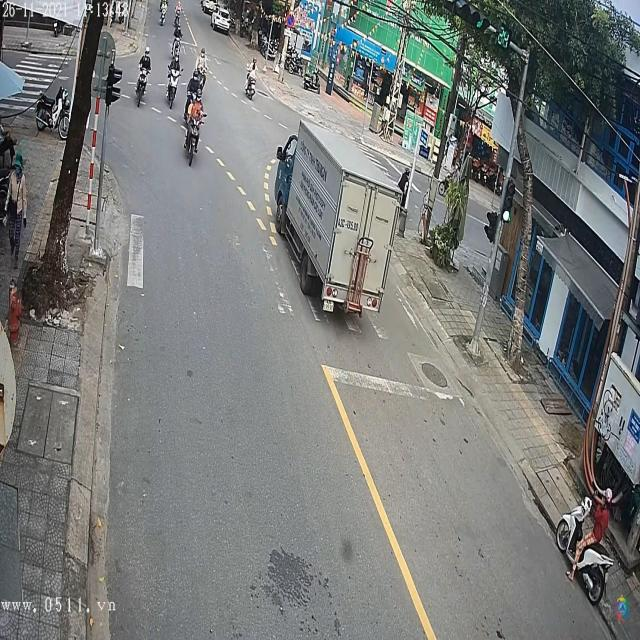motorcycle: (555, 490, 611, 610), (183, 106, 202, 170), (166, 55, 185, 113), (136, 52, 151, 112), (245, 56, 257, 100)
truck: (272, 110, 402, 333)
